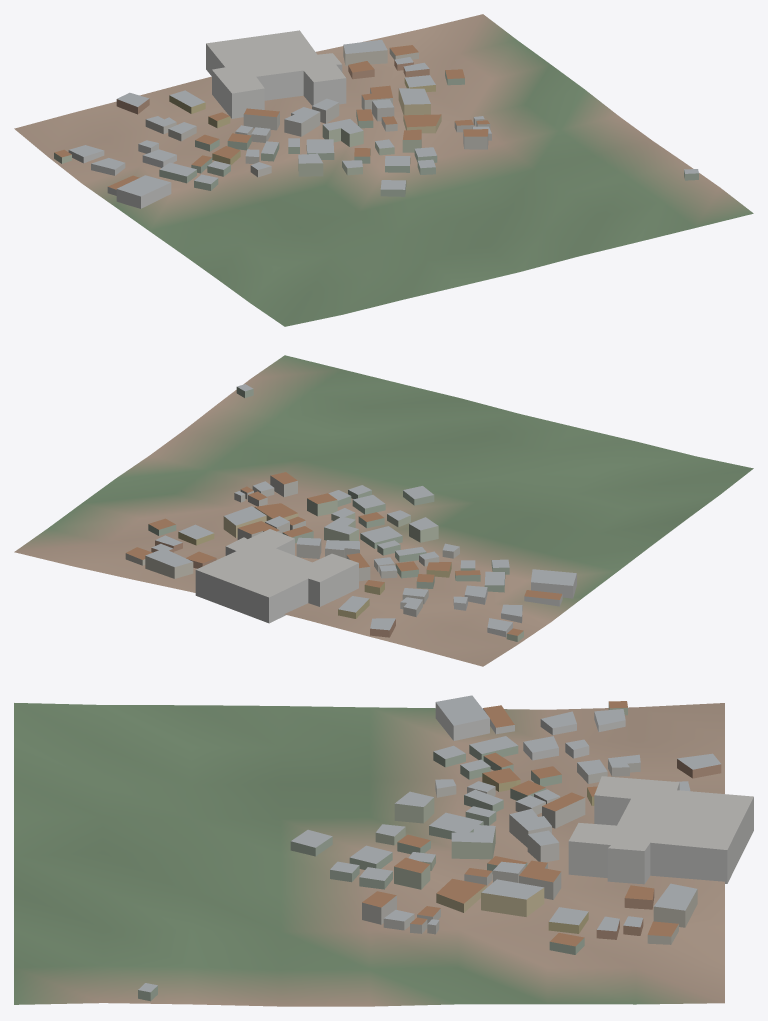
3 renders of one model, top to bottom at view 1: azimuth 30°, elevation 25°; view 2: azimuth 150°, elevation 25°; view 3: azimuth 270°, elevation 25°, orthographic. The views are drawn at different scales.
Parts seen in each view (by area): view 1: Lo; view 2: Lo; view 3: Lo.
Part boxes in pixels (<box>): Lo: <box>14,14,753,326</box>; Lo: <box>14,355,753,666</box>; Lo: <box>14,695,753,1006</box>.
Bounding box in the file's own units: 256 × 17.42 × 266.
